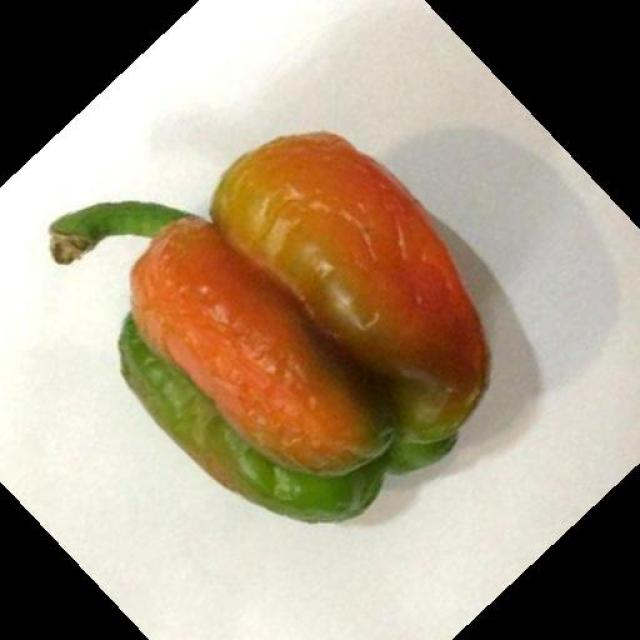Stale_Capsicum: (82, 156, 509, 512)
